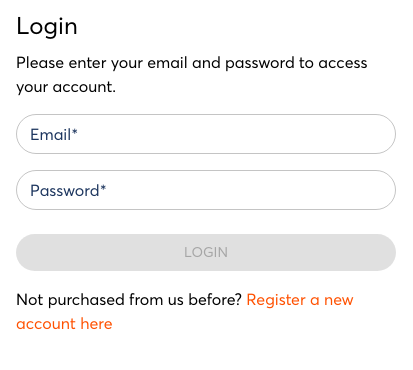
Test: Login Page › should apply validation on email address format
Type "johndoe" into the field labelled "Email *".
click(206, 134); type("johndoe")  # box left=16, top=114, right=396, bottom=154
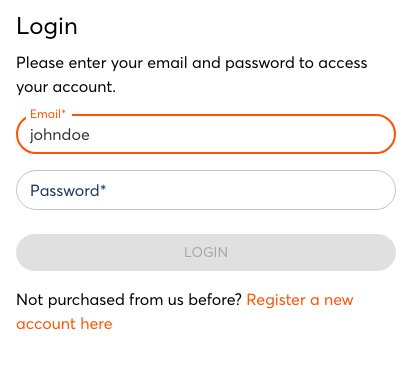
Press Tab
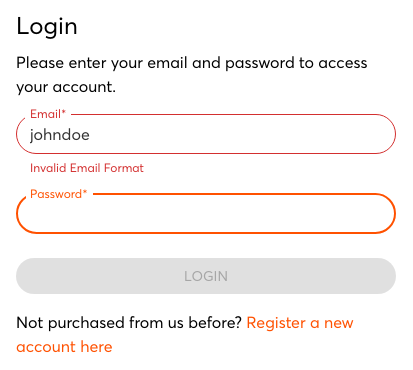
Result: the text "Invalid Email Format" is shown at left=30, top=160, right=144, bottom=175
